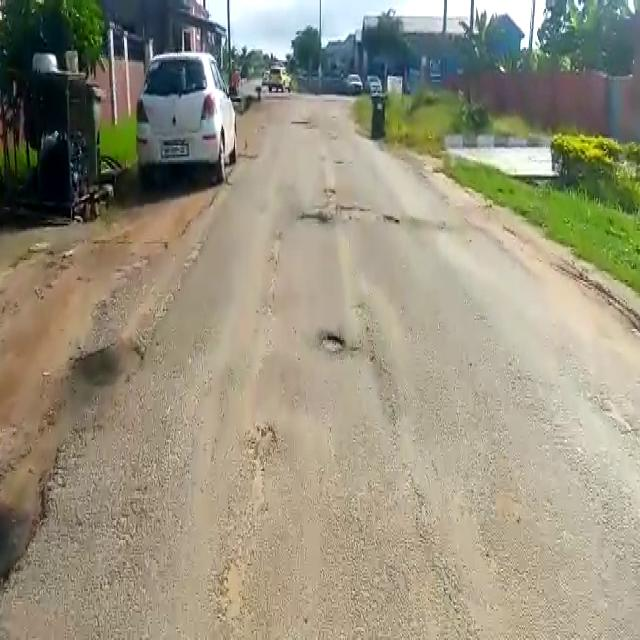Pothole: (319, 328, 353, 357)
